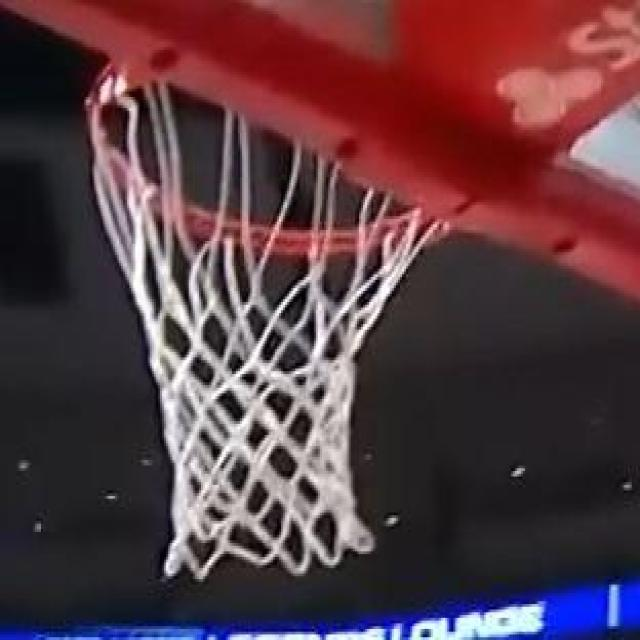hoop: (60, 47, 458, 579)
